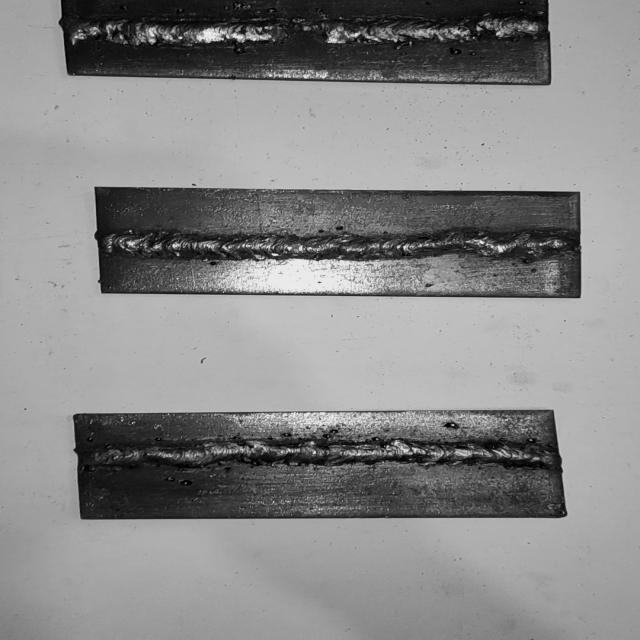Defect: (268, 10, 334, 50), (450, 12, 506, 48)
Welding Line: (104, 228, 571, 262), (66, 16, 544, 46), (80, 439, 556, 468)
Workpiece: (92, 184, 581, 298), (73, 411, 569, 518), (56, 0, 554, 86)
